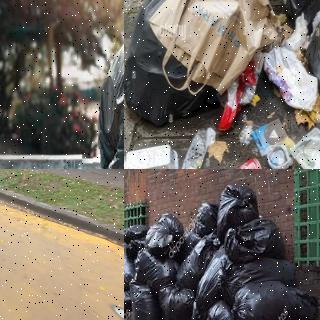Garbage: (124, 0, 219, 126), (74, 0, 124, 169), (229, 281, 318, 320), (217, 182, 259, 240), (224, 223, 284, 258), (178, 237, 217, 277), (155, 281, 194, 320), (137, 248, 178, 284), (143, 211, 180, 250), (128, 279, 163, 320), (189, 200, 218, 240), (201, 303, 240, 320), (124, 244, 134, 287), (124, 287, 136, 319)
